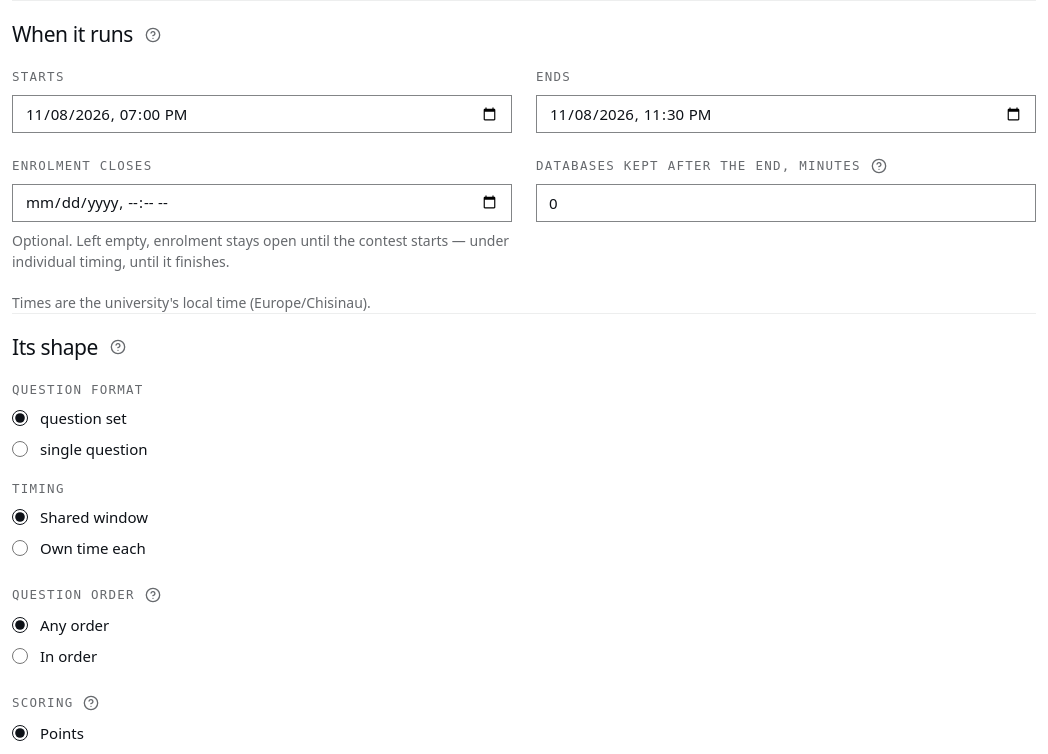
Test: ContestPanel, question order and scoring › warns about the publish gate's own refusal only once sequential is picked
Click the radio button labelled "In order" at (20, 656), box x1=12 y1=648 x2=28 y2=664
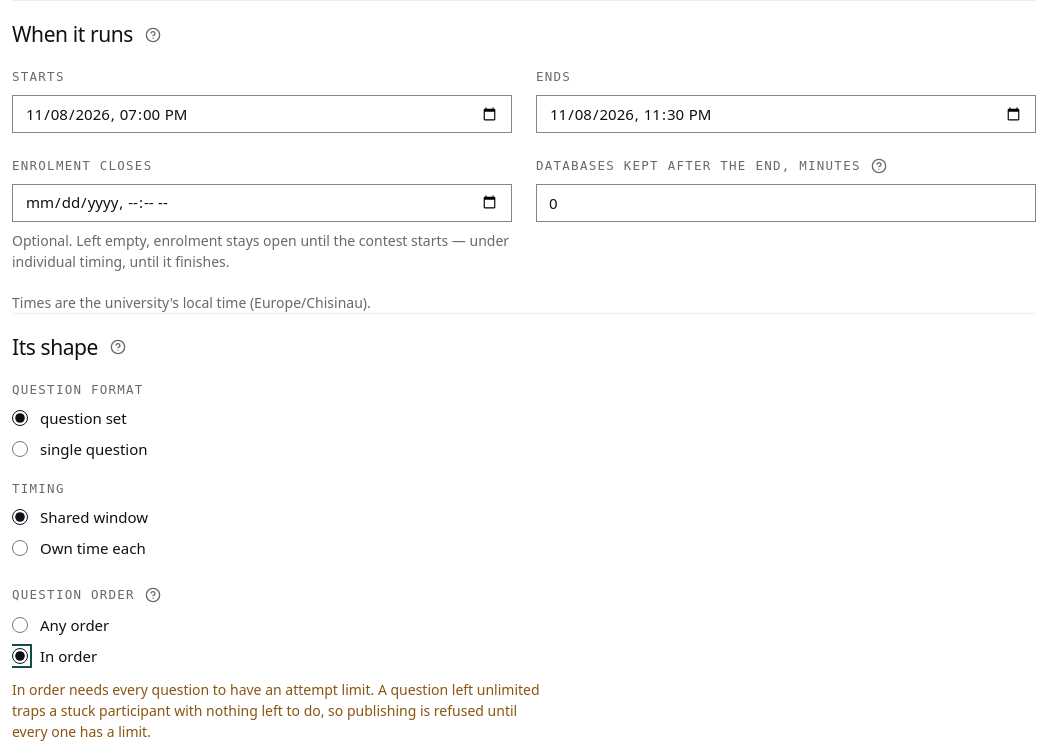
Expected: the text "In order needs every question to have an attempt limit. A question left unlimited traps a stuck participant with nothing" is shown, x1=12 y1=680 x2=540 y2=741
